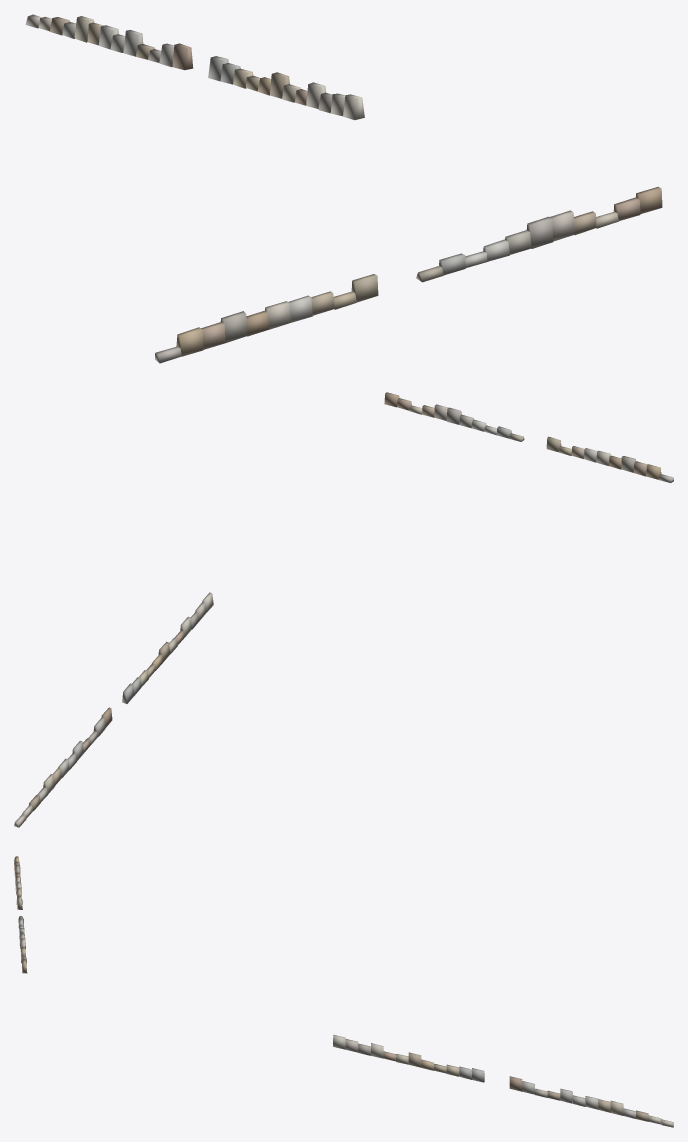
The model's file is farm_4_28_far.glb.
3 renders of one model, top to bottom at view 1: azimuth 30°, elevation 25°; view 2: azimuth 150°, elevation 25°; view 3: azimuth 270°, elevation 25°, orthographic. The views are drawn at different scales.
Visible parts, largest first — view 1: geometry_0; view 2: geometry_0; view 3: geometry_0.
Part boxes in pixels (x1=…): geometry_0: x1=25, y1=14, x2=662, y2=363; geometry_0: x1=14, y1=392, x2=673, y2=827; geometry_0: x1=14, y1=856, x2=673, y2=1127.
Size of the model in its own units: 37.91 by 21.37 by 80.94.
